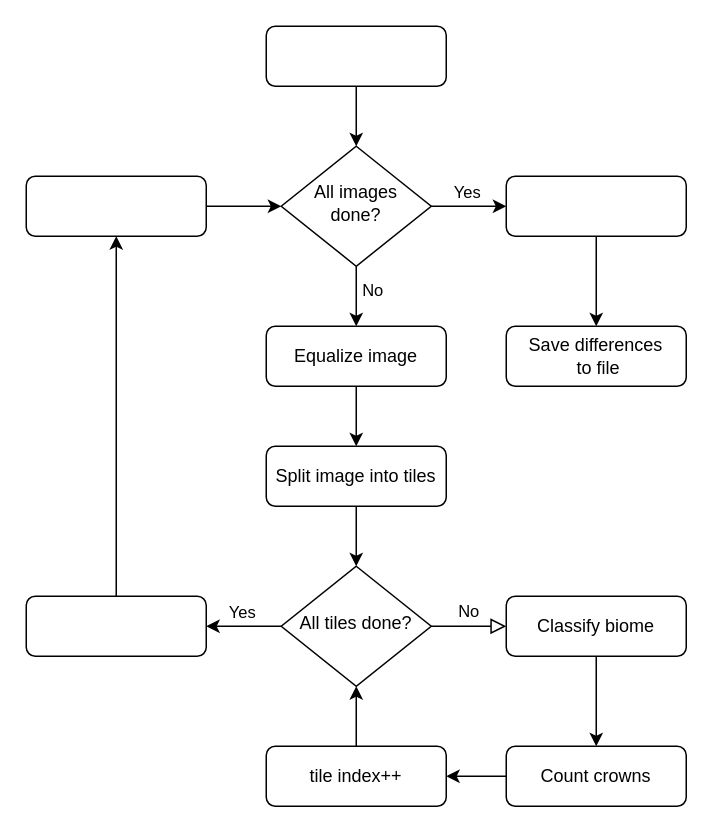
The diagram is 713 pixels wide and 833 high, and some of its shapes have lost their labels. Here are the shapes that lost their labels. From the top down, the centre of each, then its label:
At [355,55]: "Load all images".
At [115,205]: "Image index++".
At [595,205]: "Compare results with correct data".
At [115,625]: "Calculate score".
